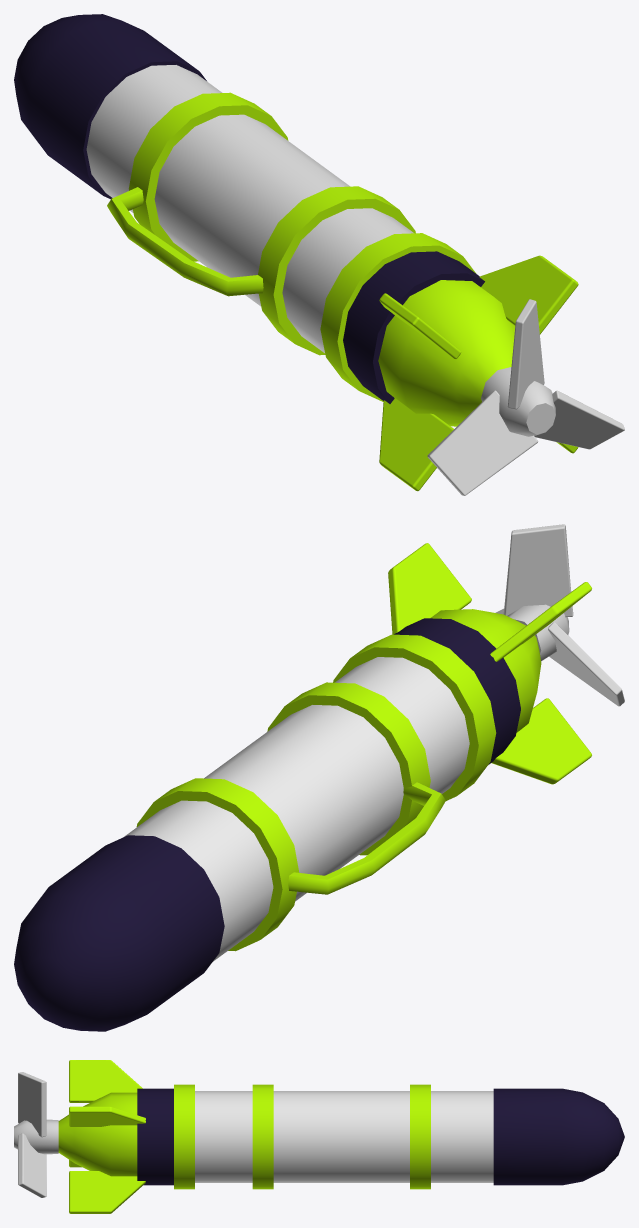
File: W_InkStrike.fbx
The picture shows the model from 3 angles, top to bottom: view 1: azimuth 30°, elevation 25°; view 2: azimuth 150°, elevation 25°; view 3: azimuth 270°, elevation 25°; orthographic projection. The views are drawn at different scales.
Visible parts, largest first — view 1: InkStrike_Body; view 2: InkStrike_Body; view 3: InkStrike_Body.
Part boxes in pixels (x1,y1,x2,y2): InkStrike_Body: [14, 14, 624, 495]; InkStrike_Body: [14, 524, 624, 1031]; InkStrike_Body: [14, 1060, 624, 1213].
Bounding box in the file's own units: 0.5706 × 0.4781 × 2.33.
